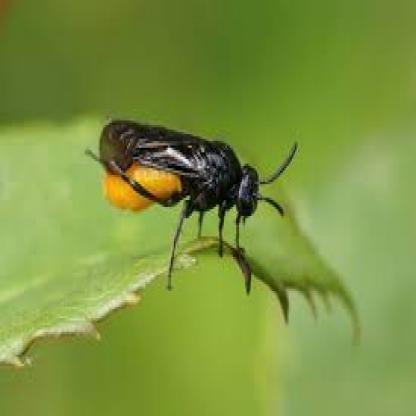sawfly: (91, 113, 306, 296)
